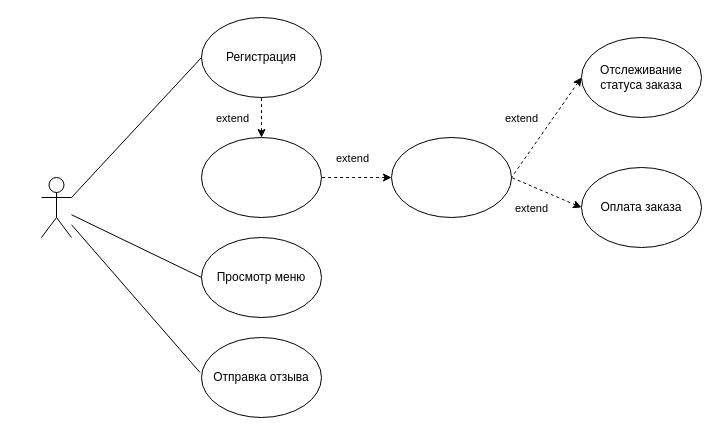
This 719x435 diagram has some shape labels left out. Each missing label, with the centre of its shape:
Авторизация: (x=261, y=177)
Оформление заказа: (x=451, y=177)
Пользователь: (x=56, y=207)
